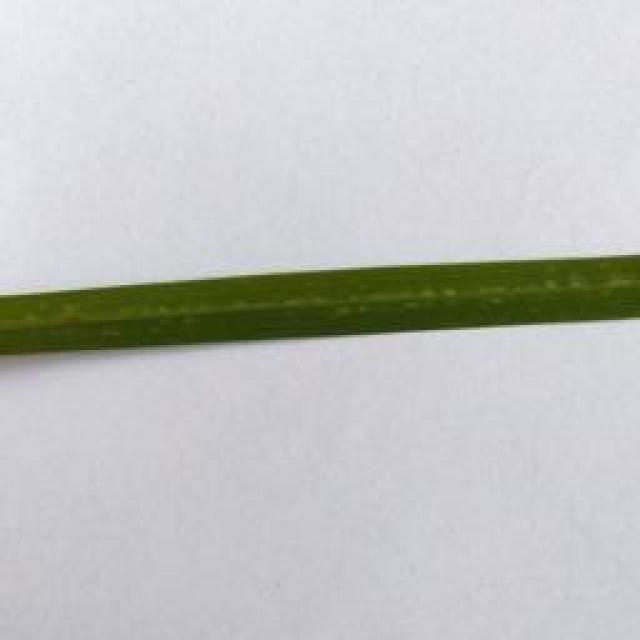Healthy-Plant: (0, 252, 640, 364)
